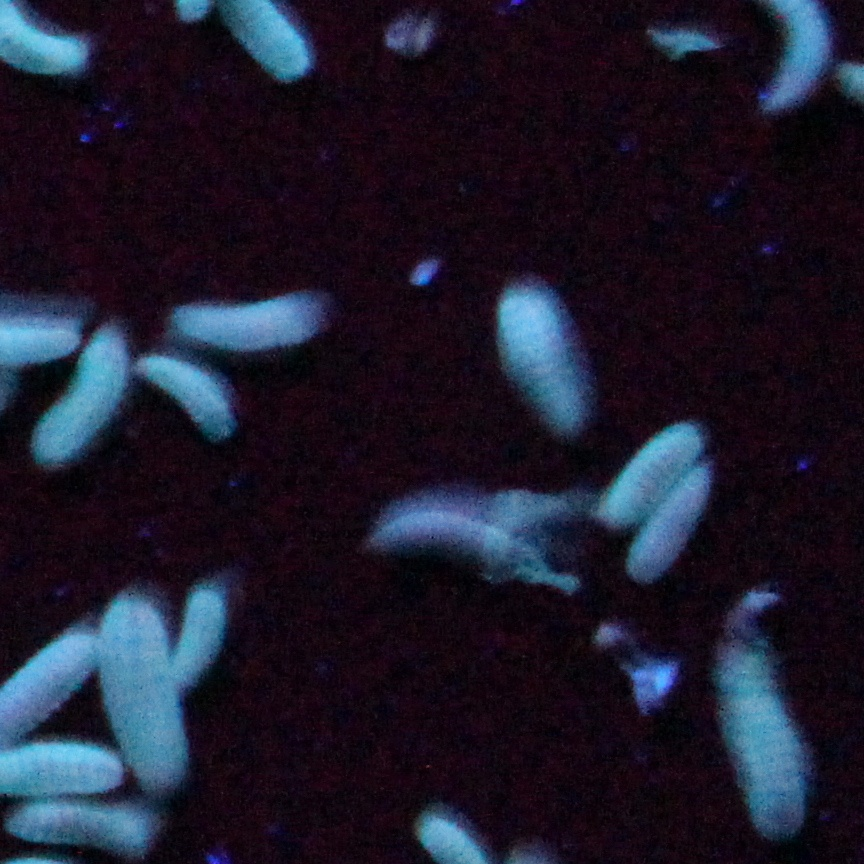larve: (719, 592, 803, 836), (368, 512, 580, 592), (100, 600, 186, 785), (35, 331, 126, 465), (501, 294, 582, 436), (603, 424, 699, 528), (627, 468, 711, 582), (134, 355, 231, 440), (177, 298, 320, 352), (8, 803, 151, 855), (167, 592, 223, 690)
